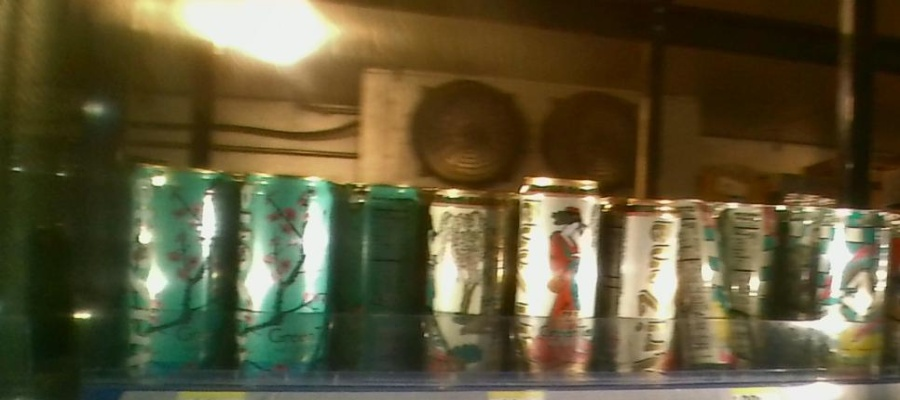bottle: (120, 145, 234, 388), (236, 158, 339, 398), (421, 167, 513, 399), (517, 160, 603, 400), (342, 160, 419, 389), (607, 176, 679, 389), (815, 199, 891, 381), (681, 185, 730, 388), (732, 192, 781, 388)
